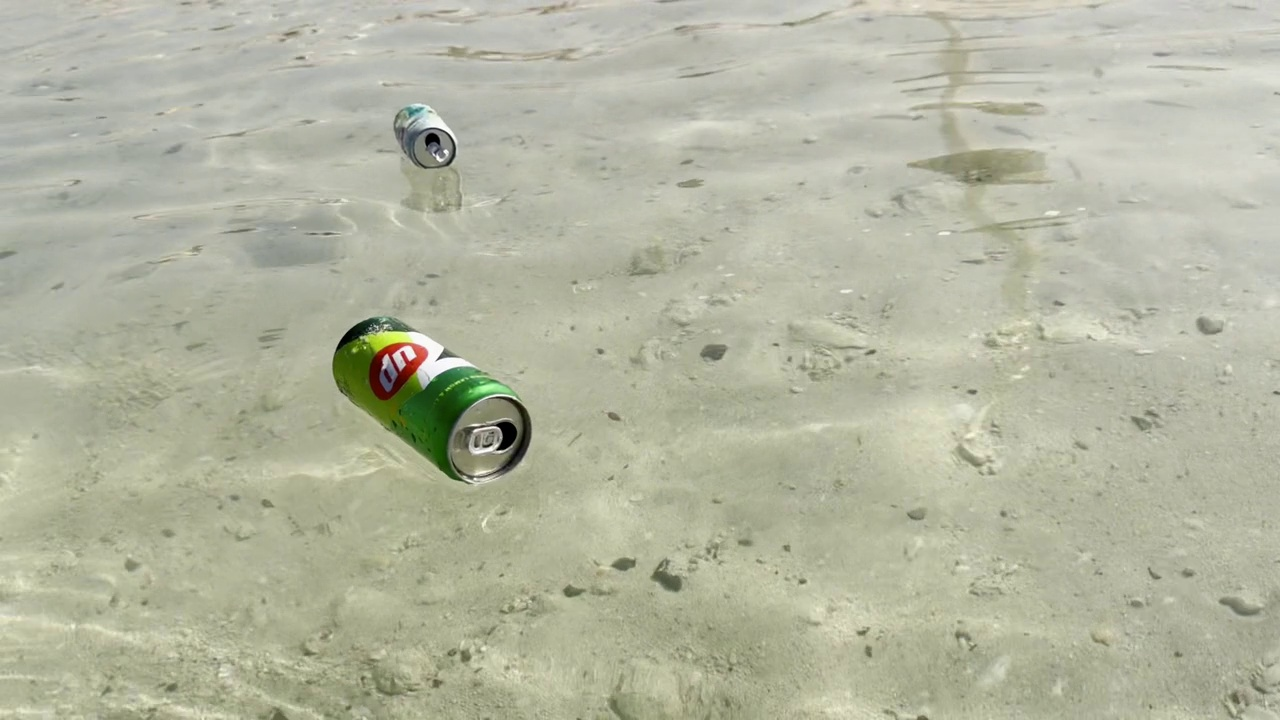debris: (323, 311, 541, 490), (387, 103, 462, 175)
